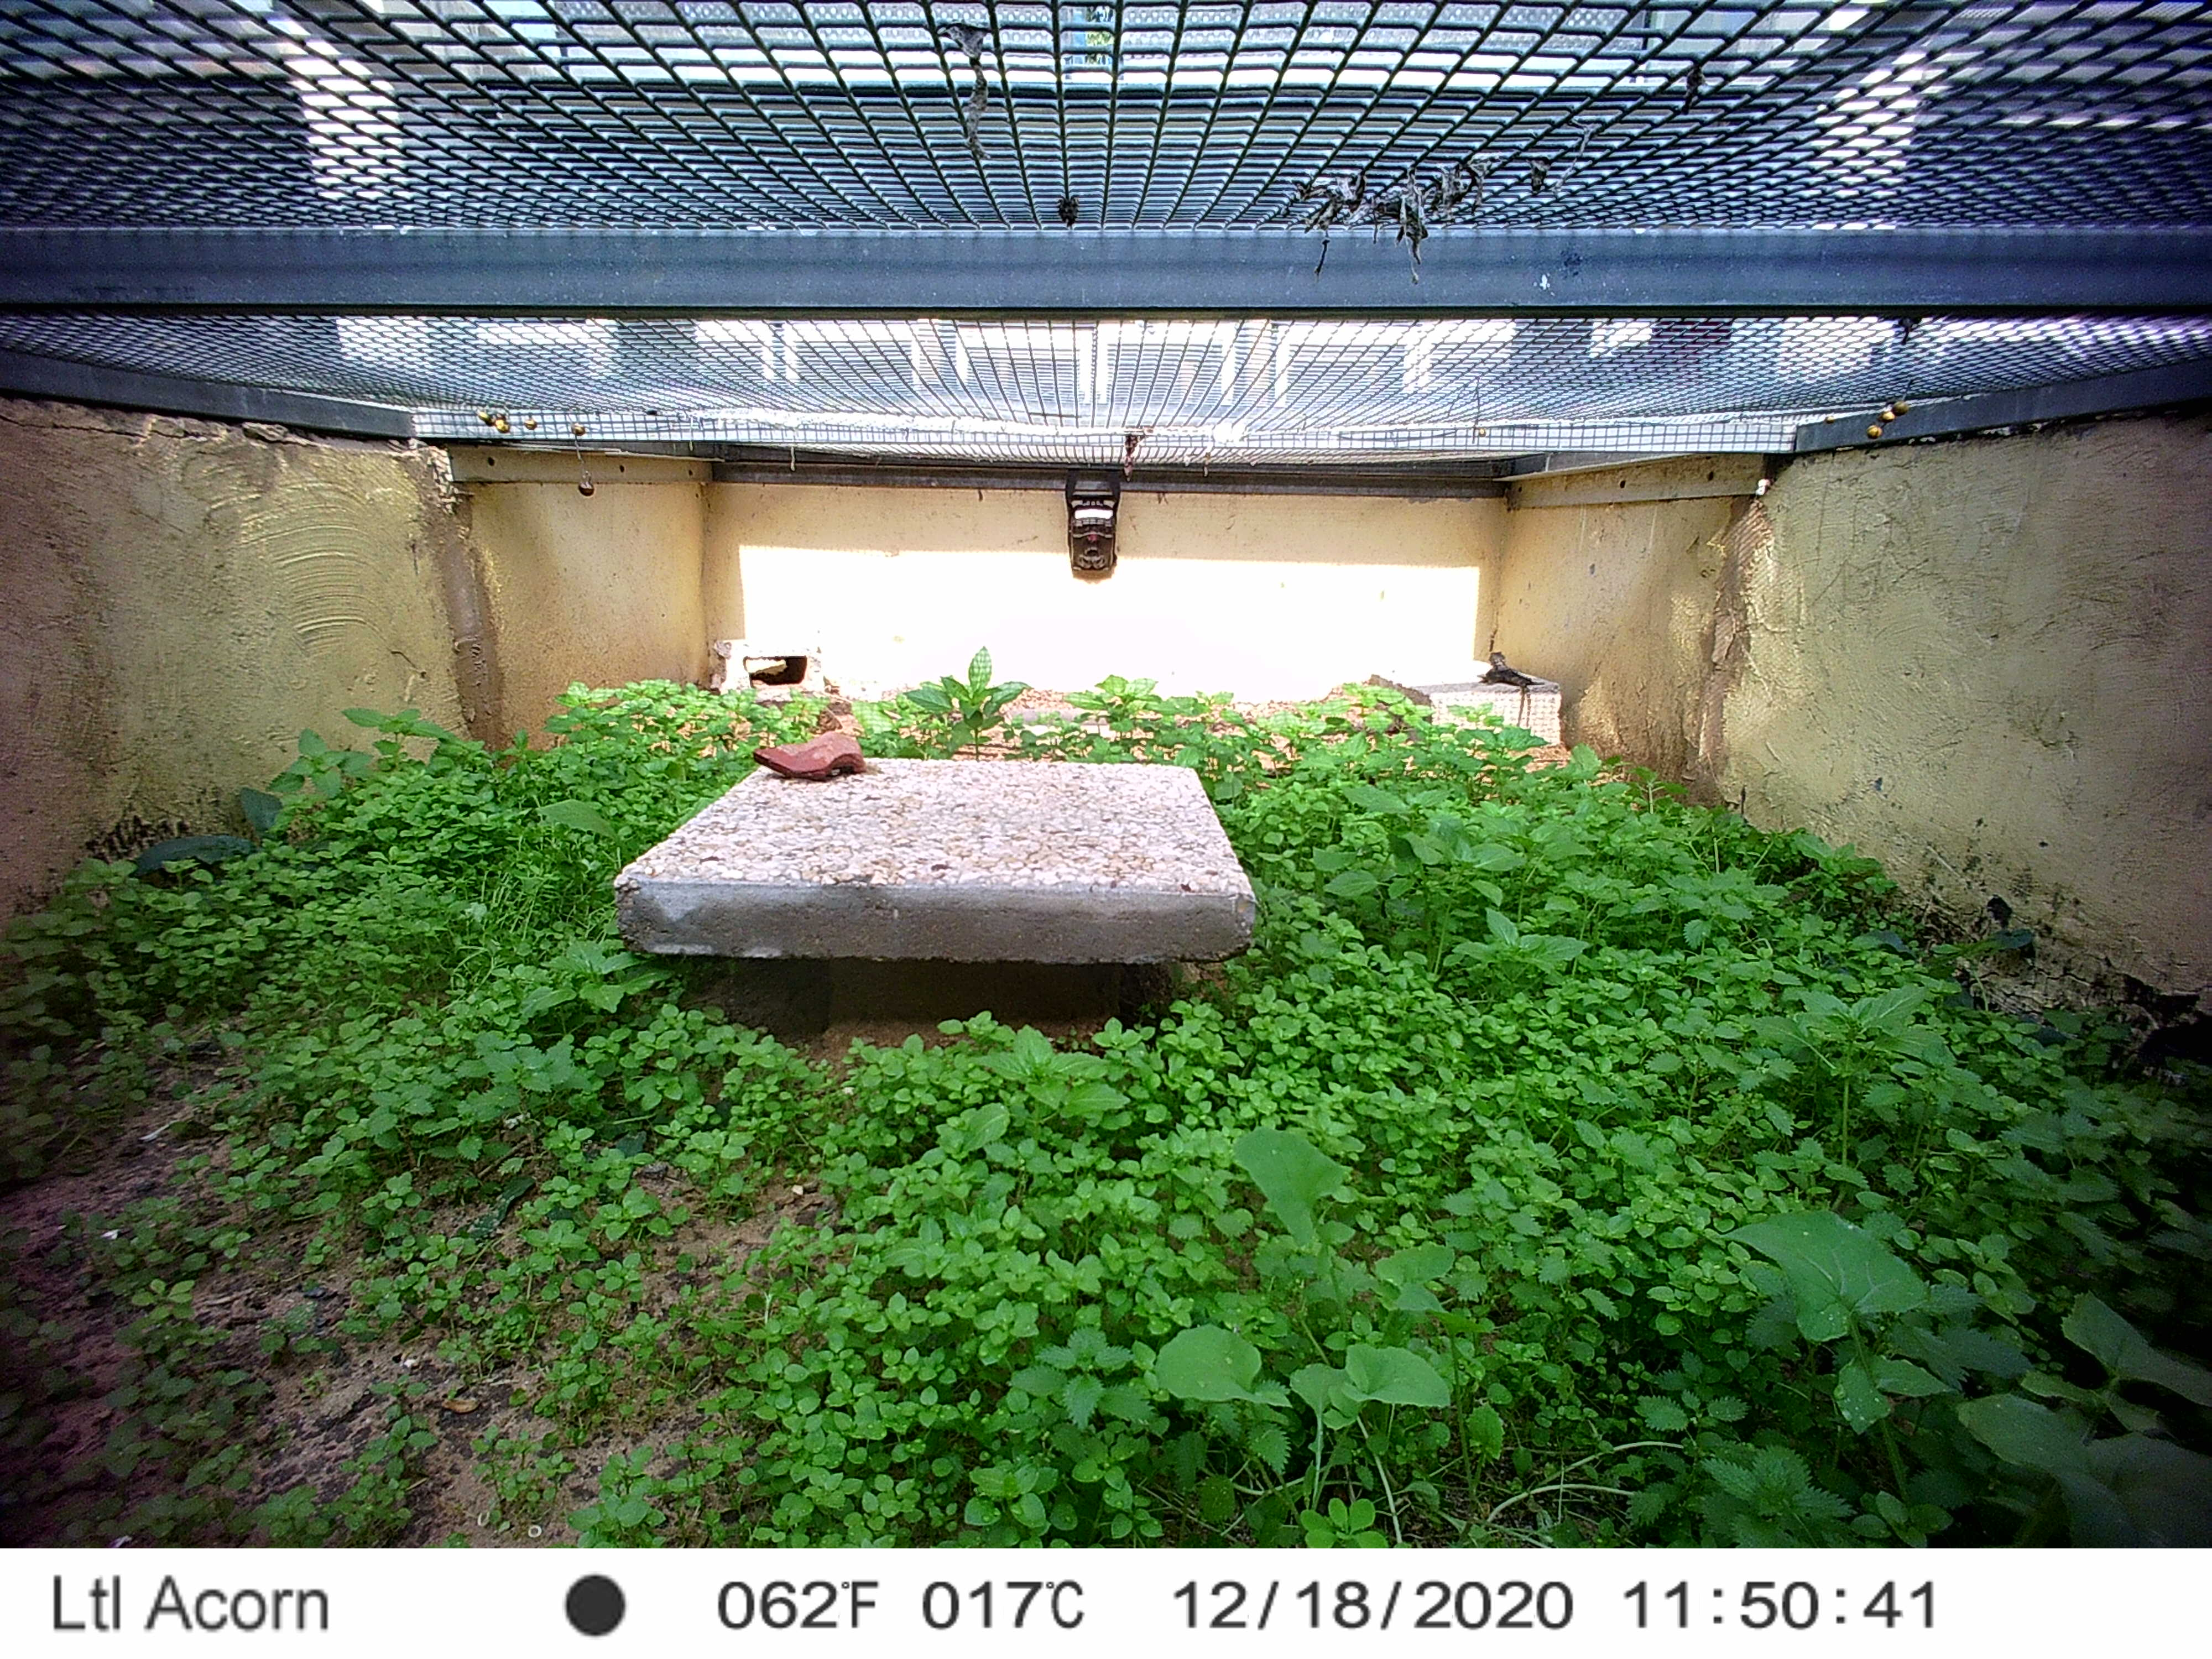lizard: (1477, 647, 1548, 735)
